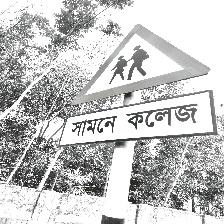College-in-front: (64, 23, 220, 179)
